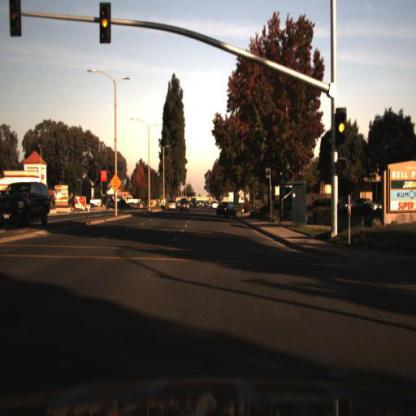car: (1, 182, 52, 231), (351, 195, 389, 222), (216, 202, 241, 220), (177, 195, 191, 216), (166, 200, 178, 216)
trafficLight-Yellow: (337, 110, 350, 150)
